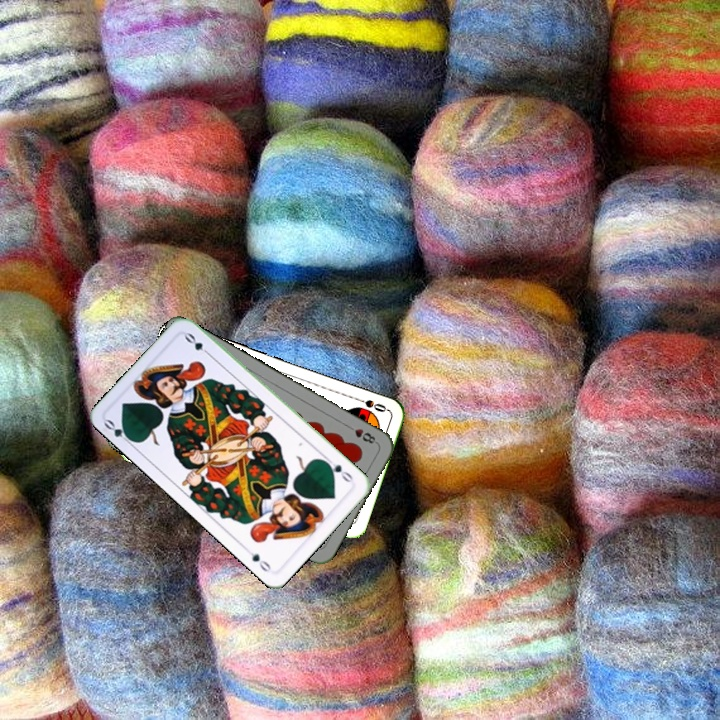GO: (100, 415, 137, 448), (321, 454, 355, 487)
H8: (343, 421, 380, 446)
SO: (351, 393, 390, 415)
